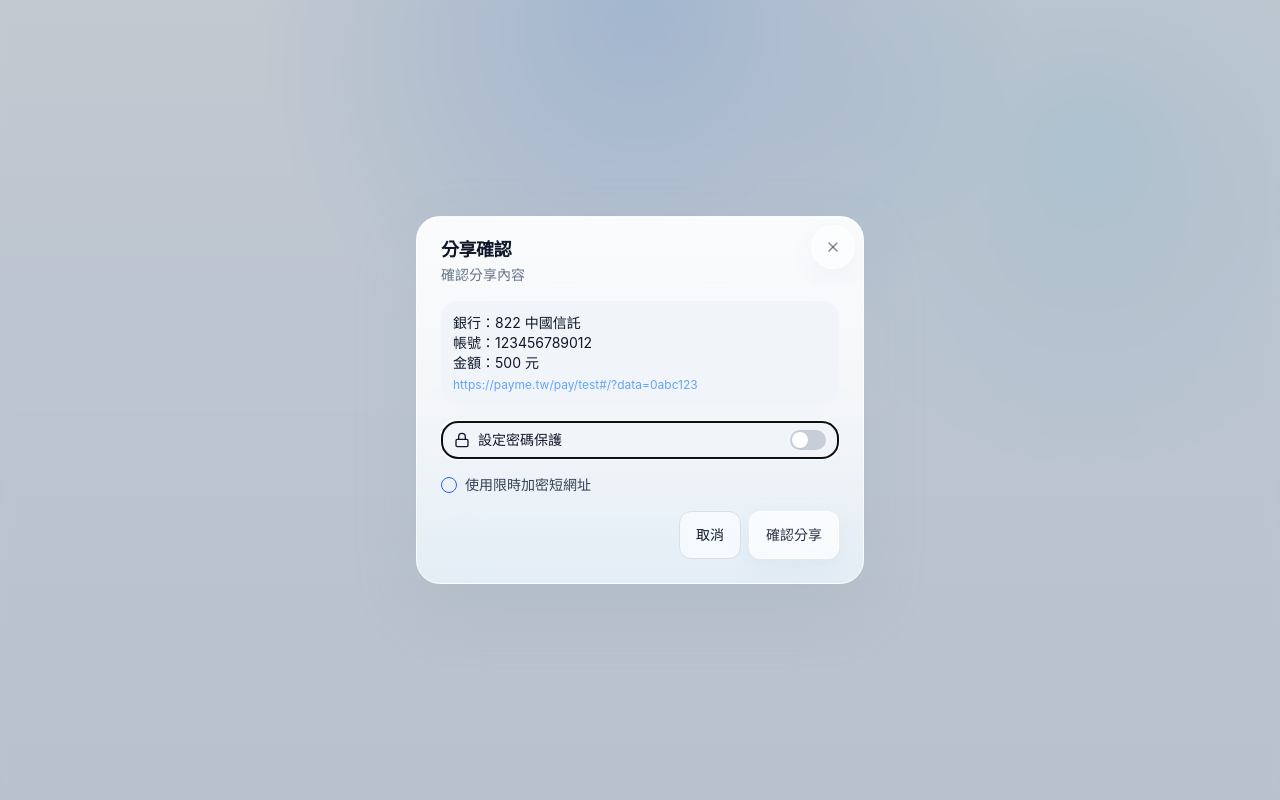
Test case: ShareConfirmDialog › 密碼加密確認流程 › 加密失敗時應顯示錯誤訊息及 fallback 按鈕
Click the button "設定密碼保護": click(520, 440) [441, 421, 839, 459]
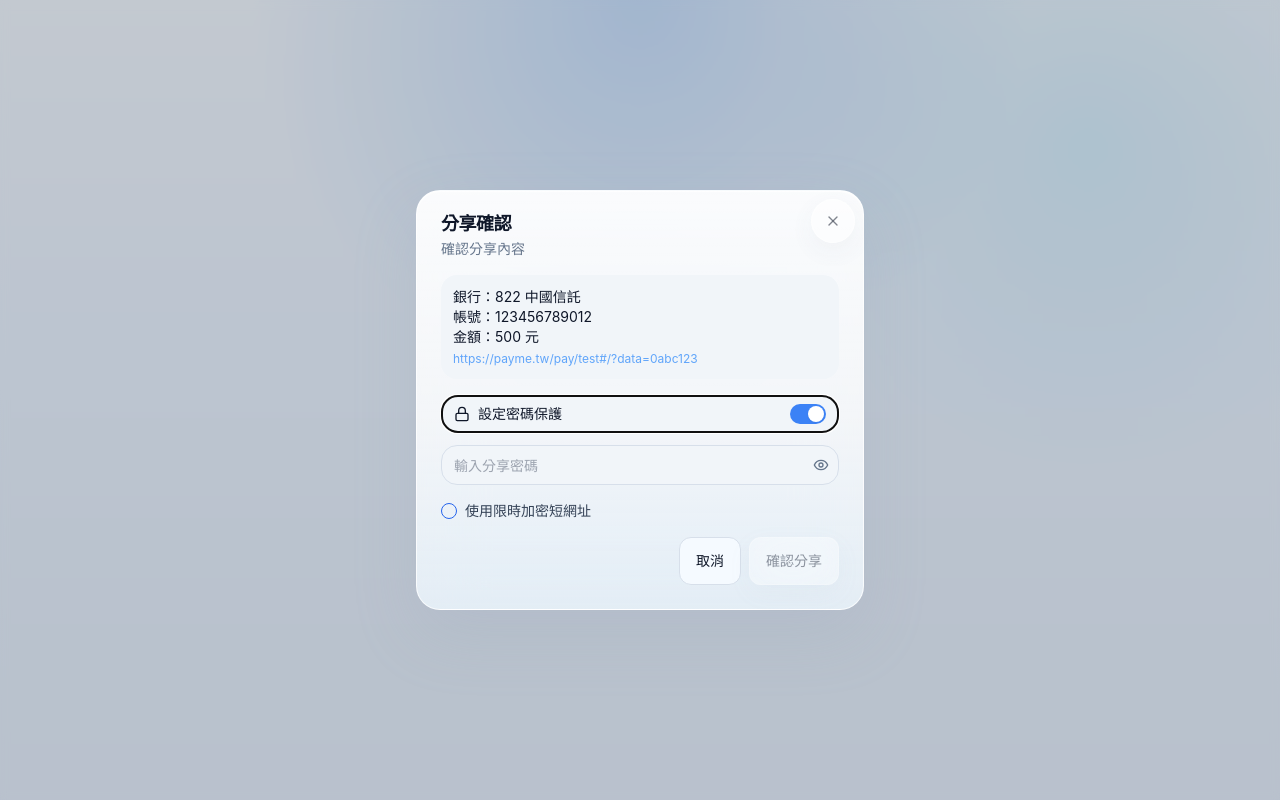
In the password field with placeholder "輸入分享密碼": (640, 465) [441, 445, 839, 485], type "myPass"
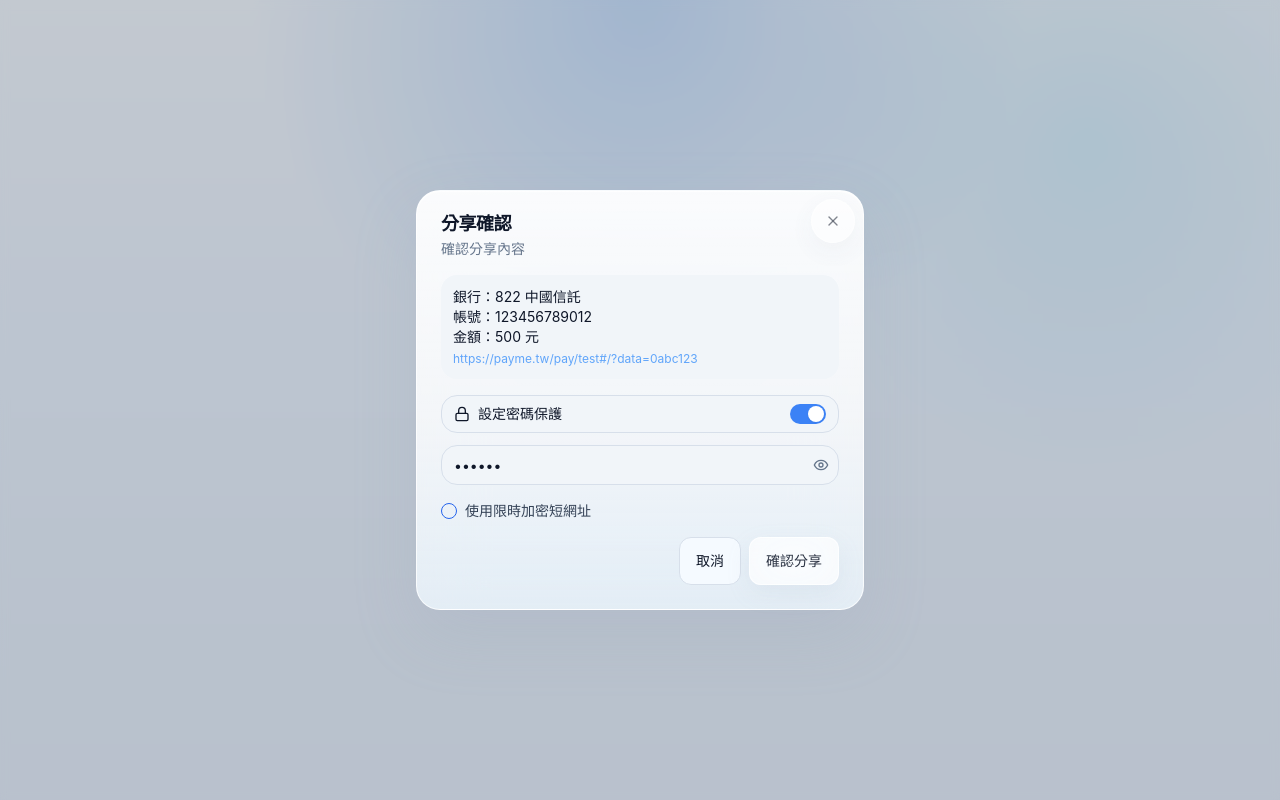
Click the button "確認分享": click(794, 561) [749, 537, 839, 585]
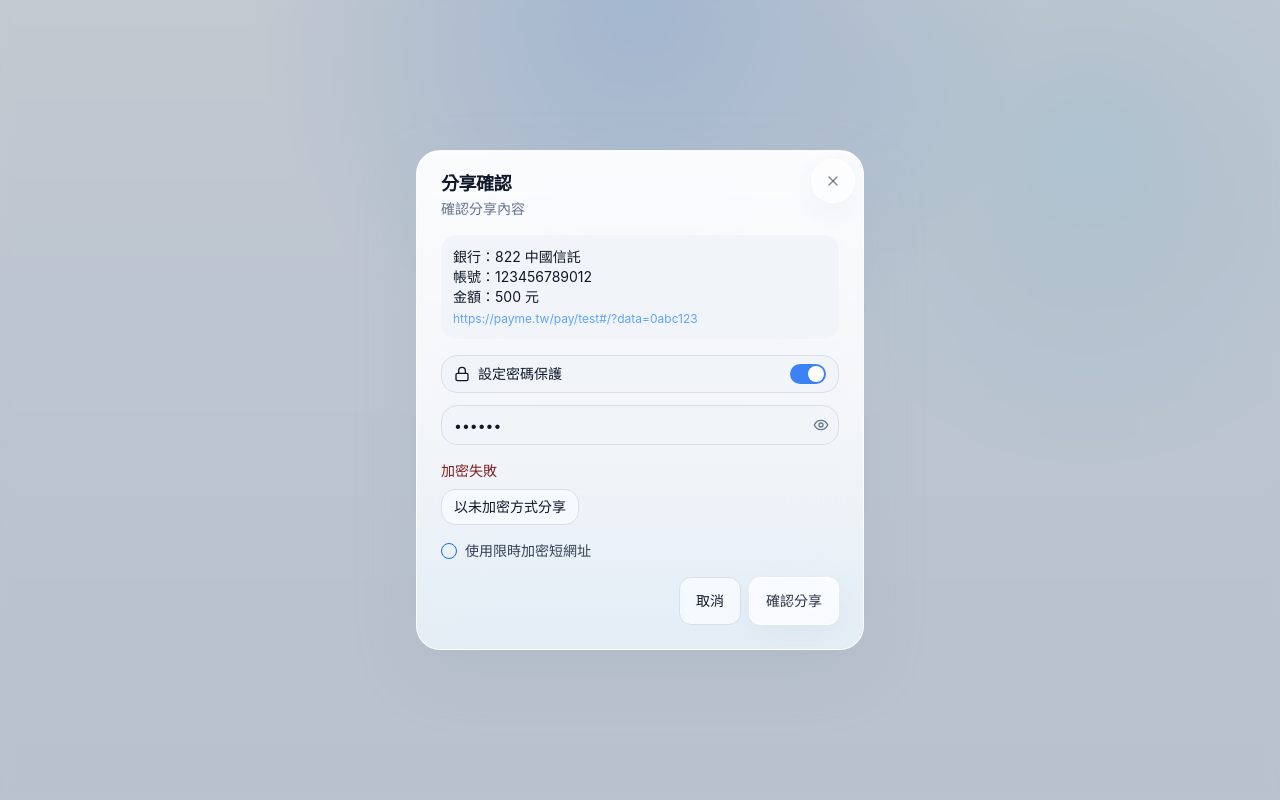
Expected: the text "加密失敗" is shown, [441, 462, 497, 479]
Expected: the button "以未加密方式分享" is shown, [441, 489, 579, 525]
